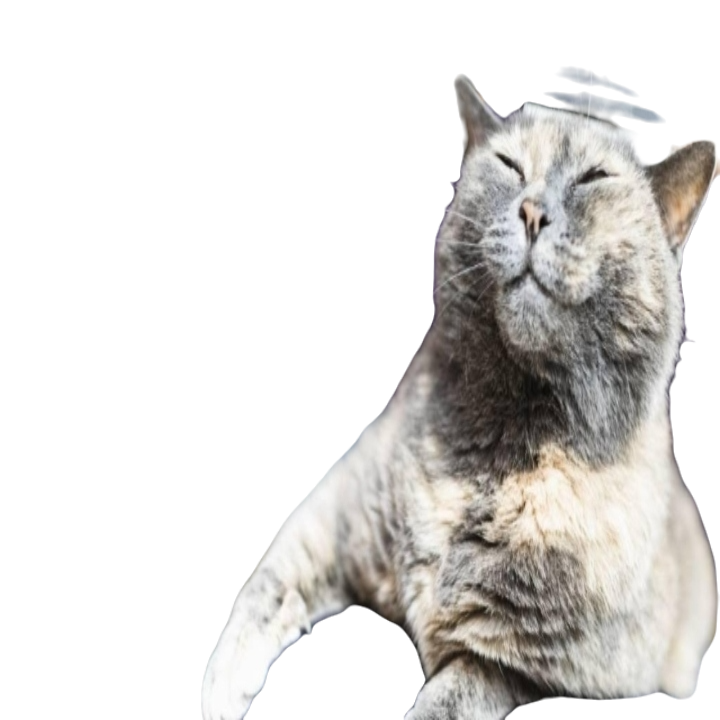Cat: (168, 77, 719, 717)
